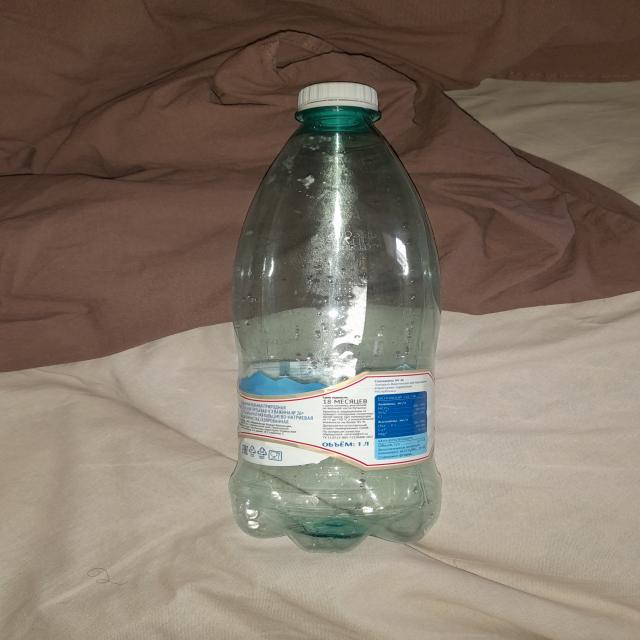empty: (229, 82, 441, 552)
